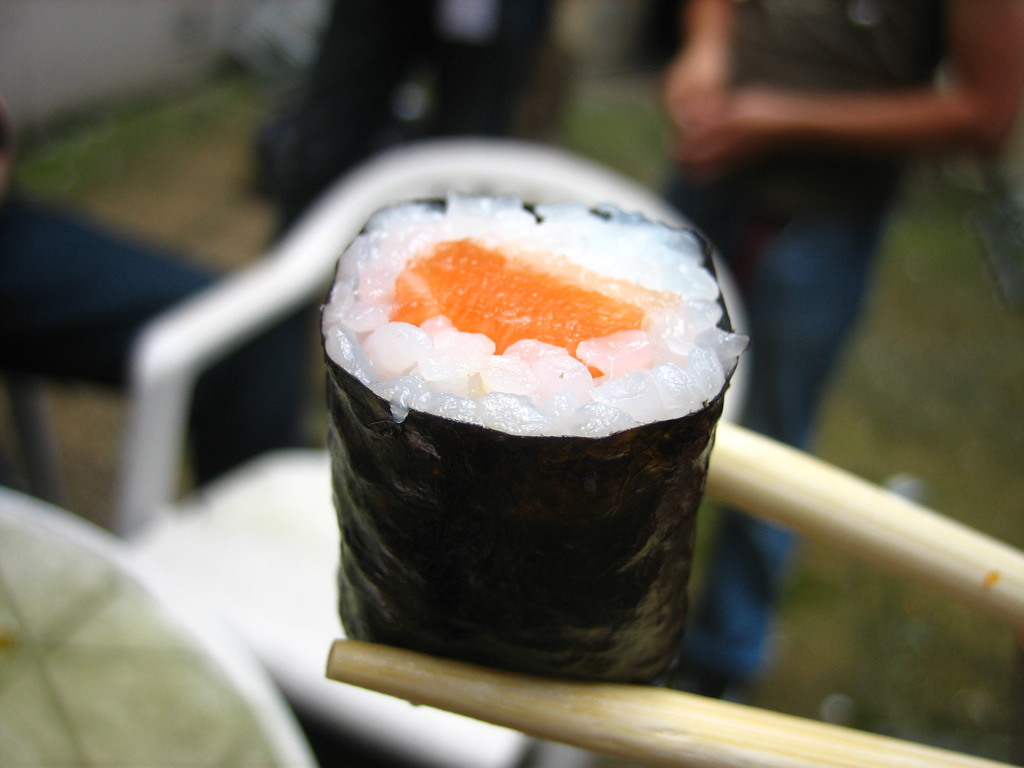sushi: (311, 247, 703, 701)
